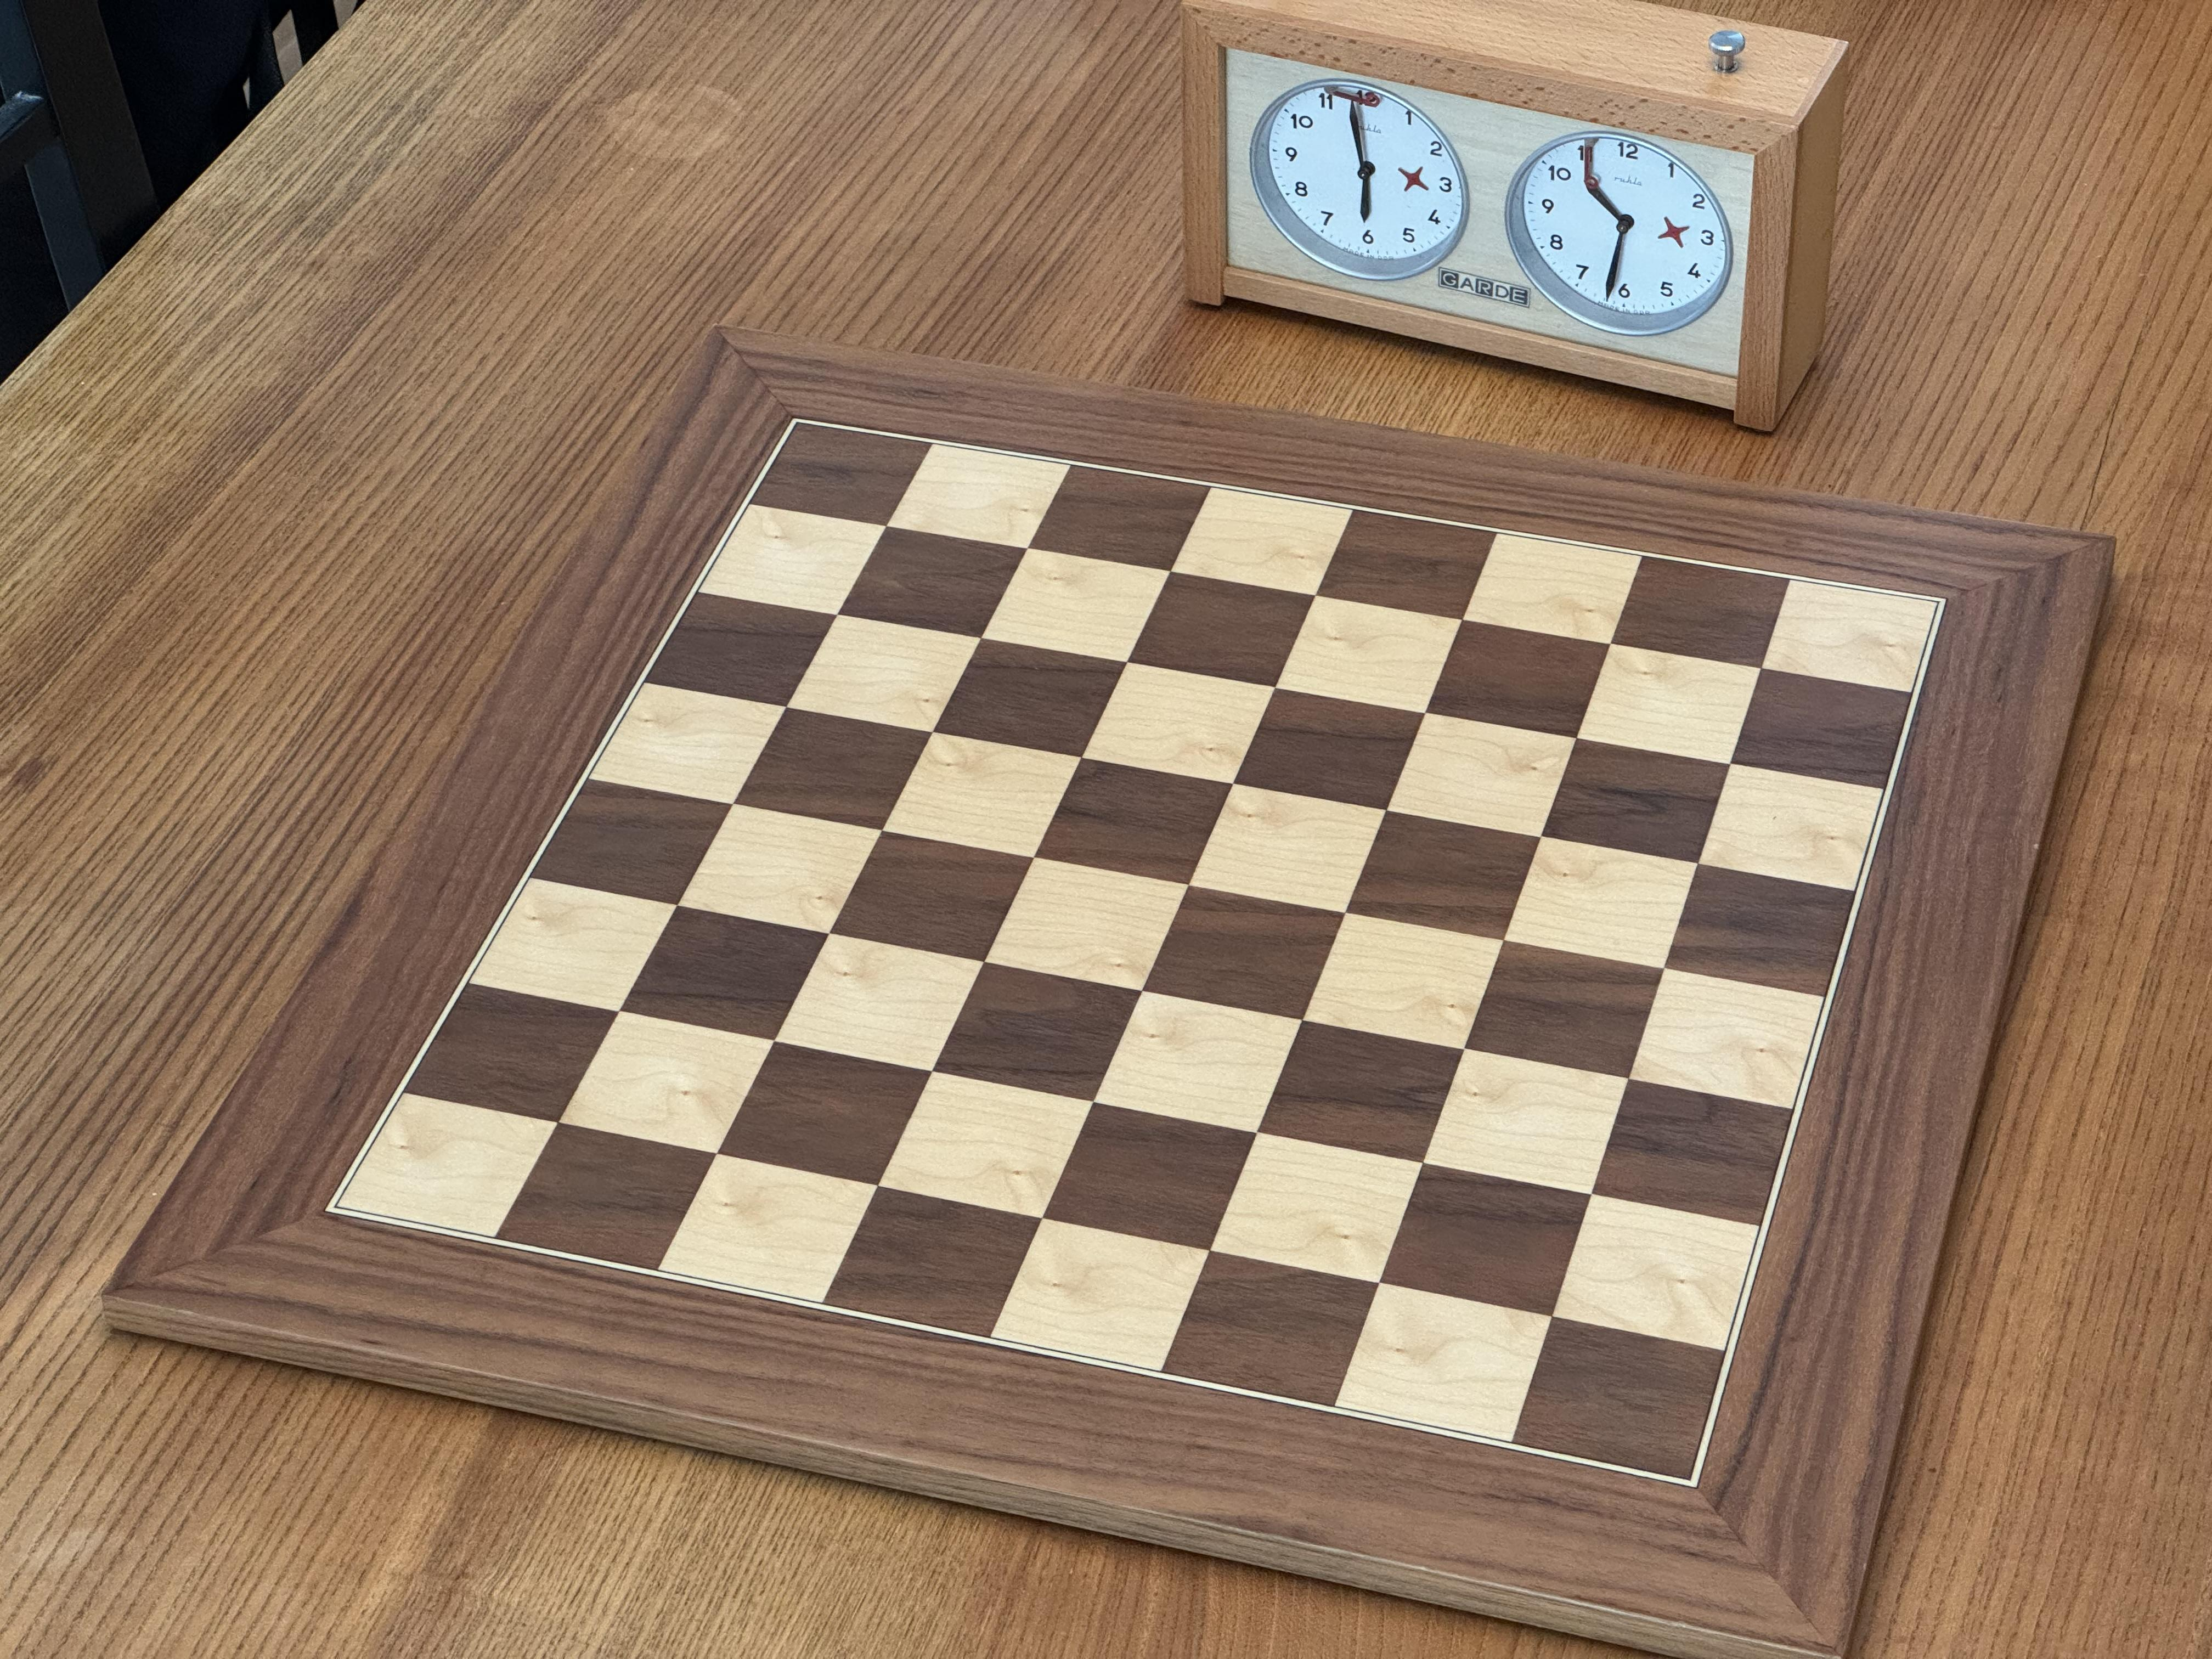corner A: (243, 1124, 413, 1290)
corner B: (1601, 1393, 1789, 1578)
corner C: (1862, 519, 2025, 689)
